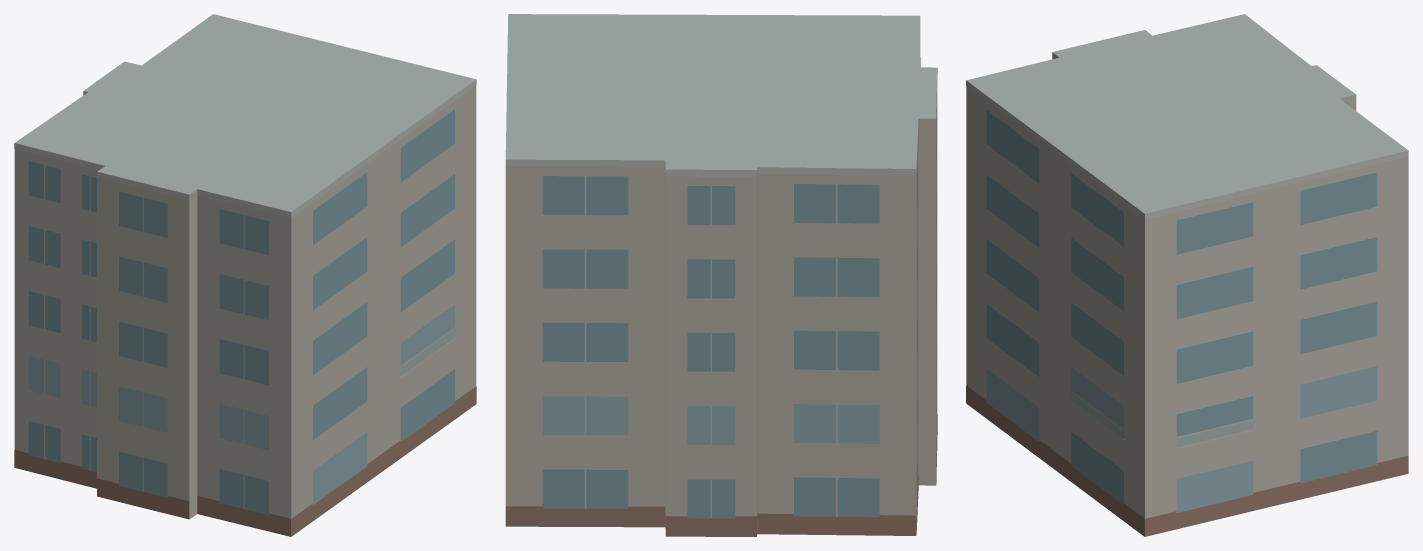
Rendered from survey-upis-32727596.glb.
3 views of the same model, side by side, from view 1: azimuth 30°, elevation 25°; view 2: azimuth 150°, elevation 25°; view 3: azimuth 270°, elevation 25° (orthographic). The views are drawn at different scales.
Parts seen in each view (by area): view 1: survey-upis-32727596.tmp; view 2: survey-upis-32727596.tmp; view 3: survey-upis-32727596.tmp.
Part boxes in pixels (x1,y1,x2,y2): survey-upis-32727596.tmp: (14, 14, 476, 536); survey-upis-32727596.tmp: (505, 14, 937, 536); survey-upis-32727596.tmp: (966, 14, 1408, 536).
Size of the model in its own units: 17.65 by 13.3 by 16.52.
